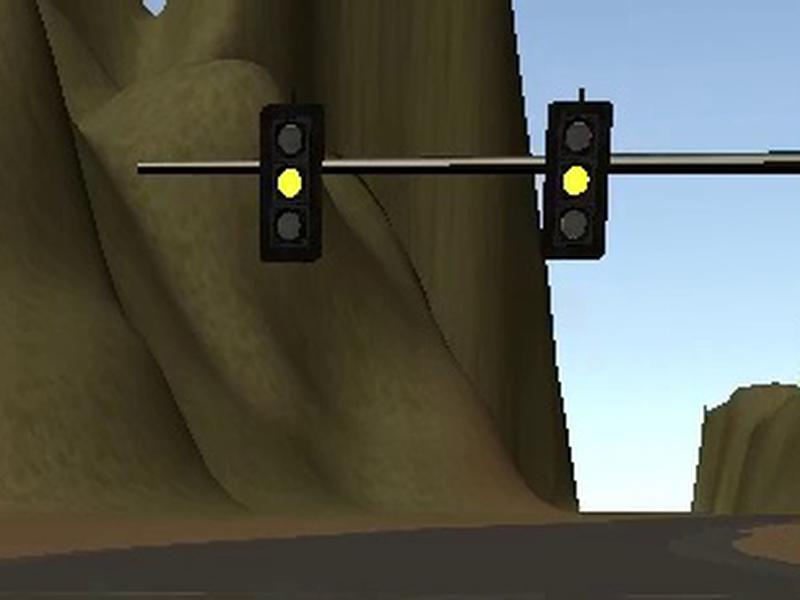Yellow: (538, 101, 612, 261), (259, 104, 324, 262)
